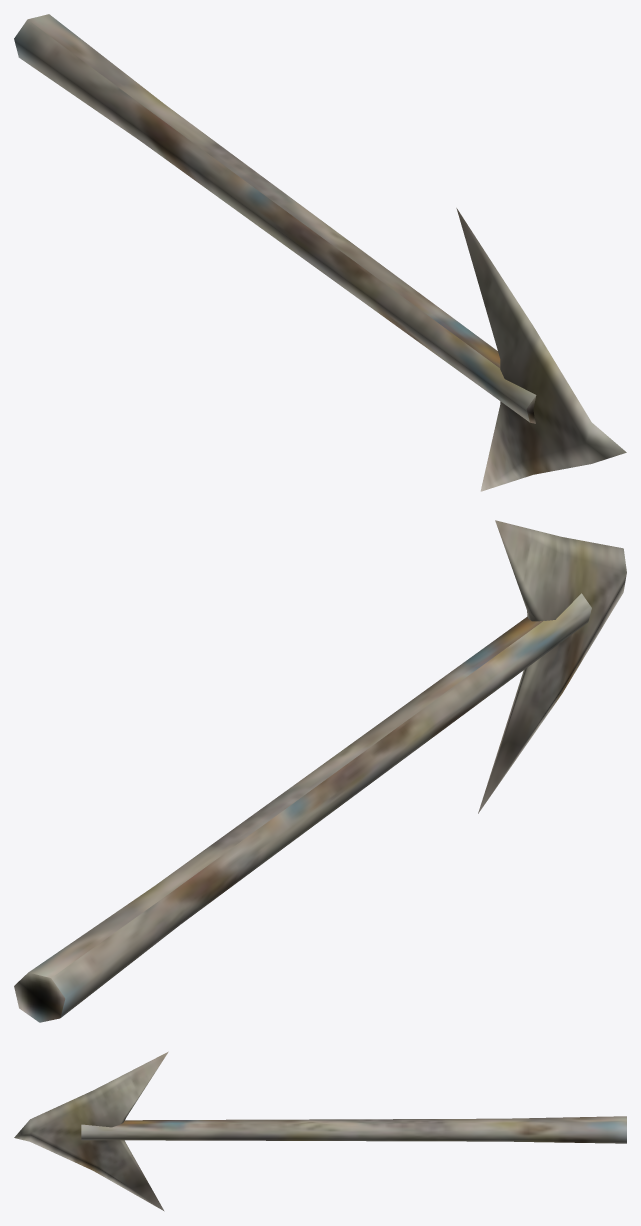
Rendered from paperLance.glb.
The picture shows the model from 3 angles, top to bottom: view 1: azimuth 30°, elevation 25°; view 2: azimuth 150°, elevation 25°; view 3: azimuth 270°, elevation 25°; orthographic projection. The views are drawn at different scales.
Parts seen in each view (by area): view 1: paperLance; view 2: paperLance; view 3: paperLance.
Boxes of the visible parts, bbox=[...] form: paperLance: bbox=[14, 14, 626, 491]; paperLance: bbox=[14, 520, 626, 1022]; paperLance: bbox=[14, 1051, 626, 1211].
Size of the model in its own units: 0.0991 by 0.5574 by 2.
Materials: 1 (1 with a texture image).
